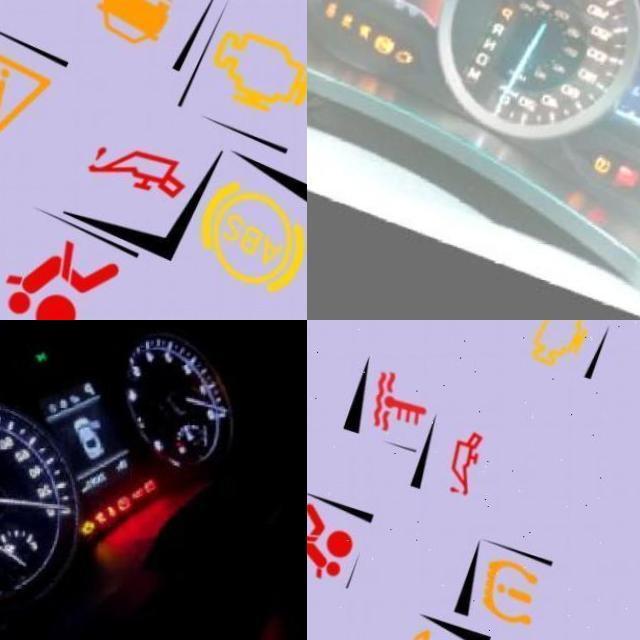Seat Belt: (113, 508, 127, 525)
